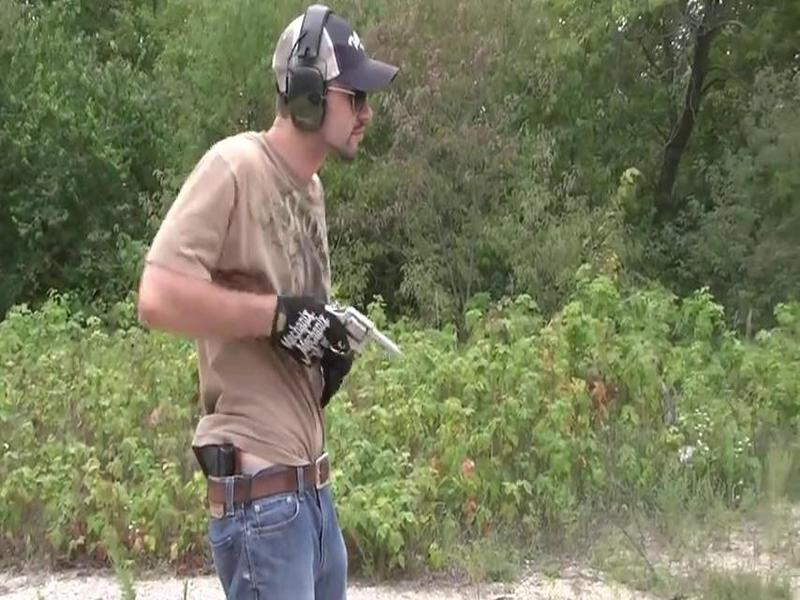Revolver: (318, 286, 414, 382)
